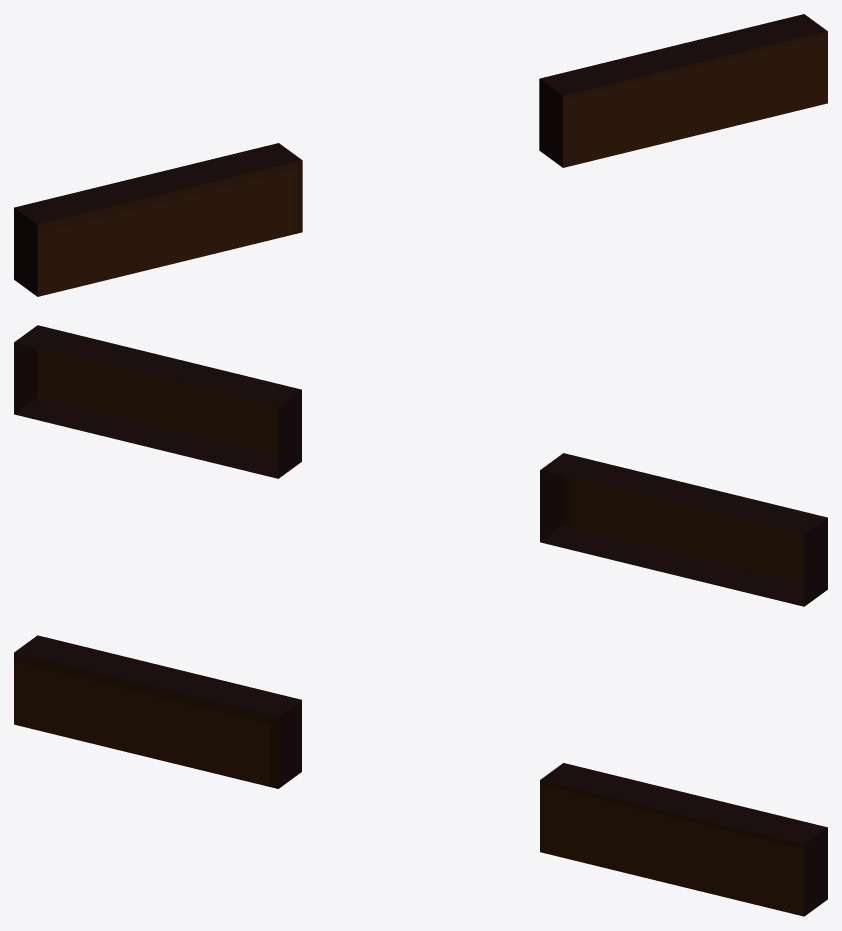
The model's file is skM1_jesse_brows.glb.
3 views of the same model, one above another, from view 1: azimuth 30°, elevation 25°; view 2: azimuth 150°, elevation 25°; view 3: azimuth 330°, elevation 25° (orthographic).
Visible parts, largest first — view 1: skM1_jesse; view 2: skM1_jesse; view 3: skM1_jesse.
Boxes of the visible parts, x1,y1,x2,y2 form: skM1_jesse: (14, 14, 827, 296); skM1_jesse: (14, 325, 827, 606); skM1_jesse: (14, 635, 827, 916).
Size of the model in its own units: 0.3745 by 0.0327 by 0.0199.
1 material, 1 textured.
